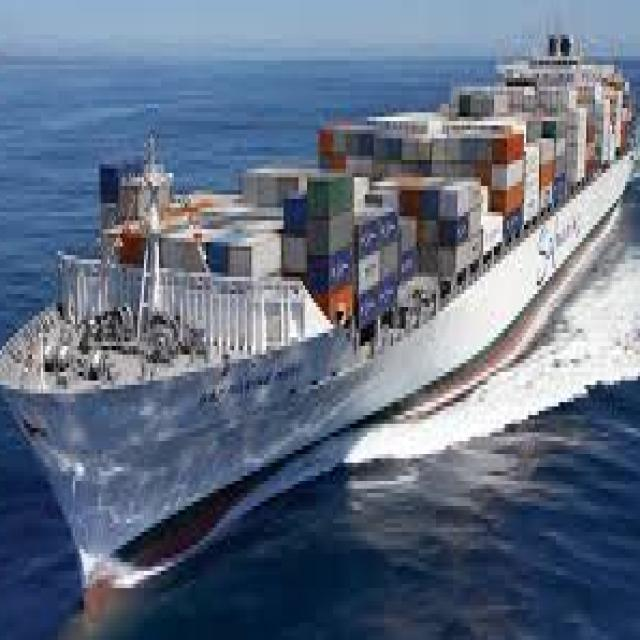cargoship: (0, 31, 636, 566)
